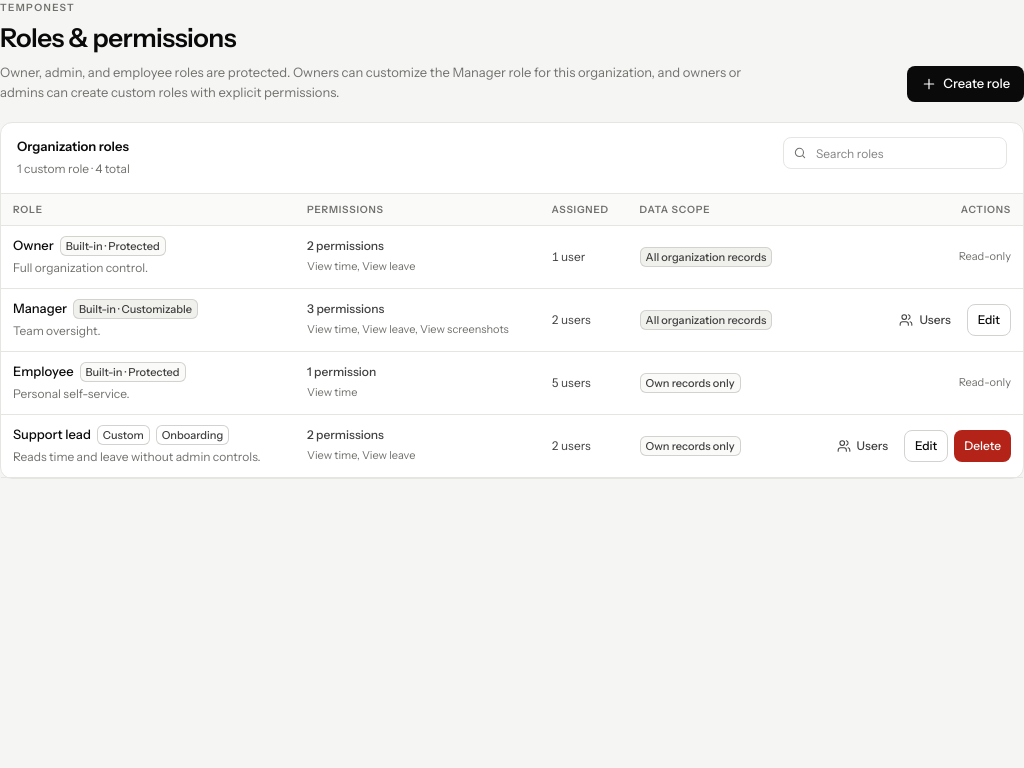
Test: RolesView › shows assigned users for a custom role
Click the button "Users" in the row of "Support lead".
click(862, 446)  # box [826, 430, 898, 462]
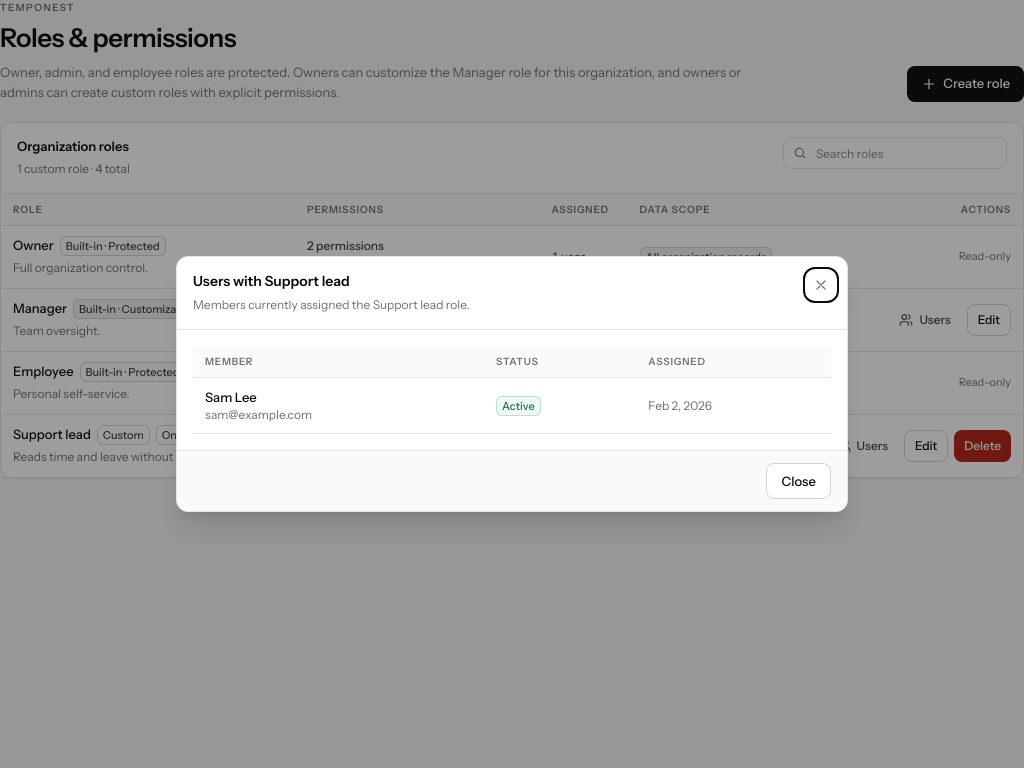
Expected: the text "Sam Lee" is shown, [205, 389, 257, 405]
Expected: the text "sam@example.com" is shown, [205, 407, 312, 422]
